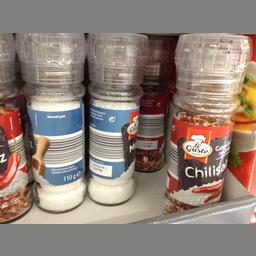spices: (162, 34, 250, 212), (14, 34, 87, 212), (84, 32, 148, 203)
